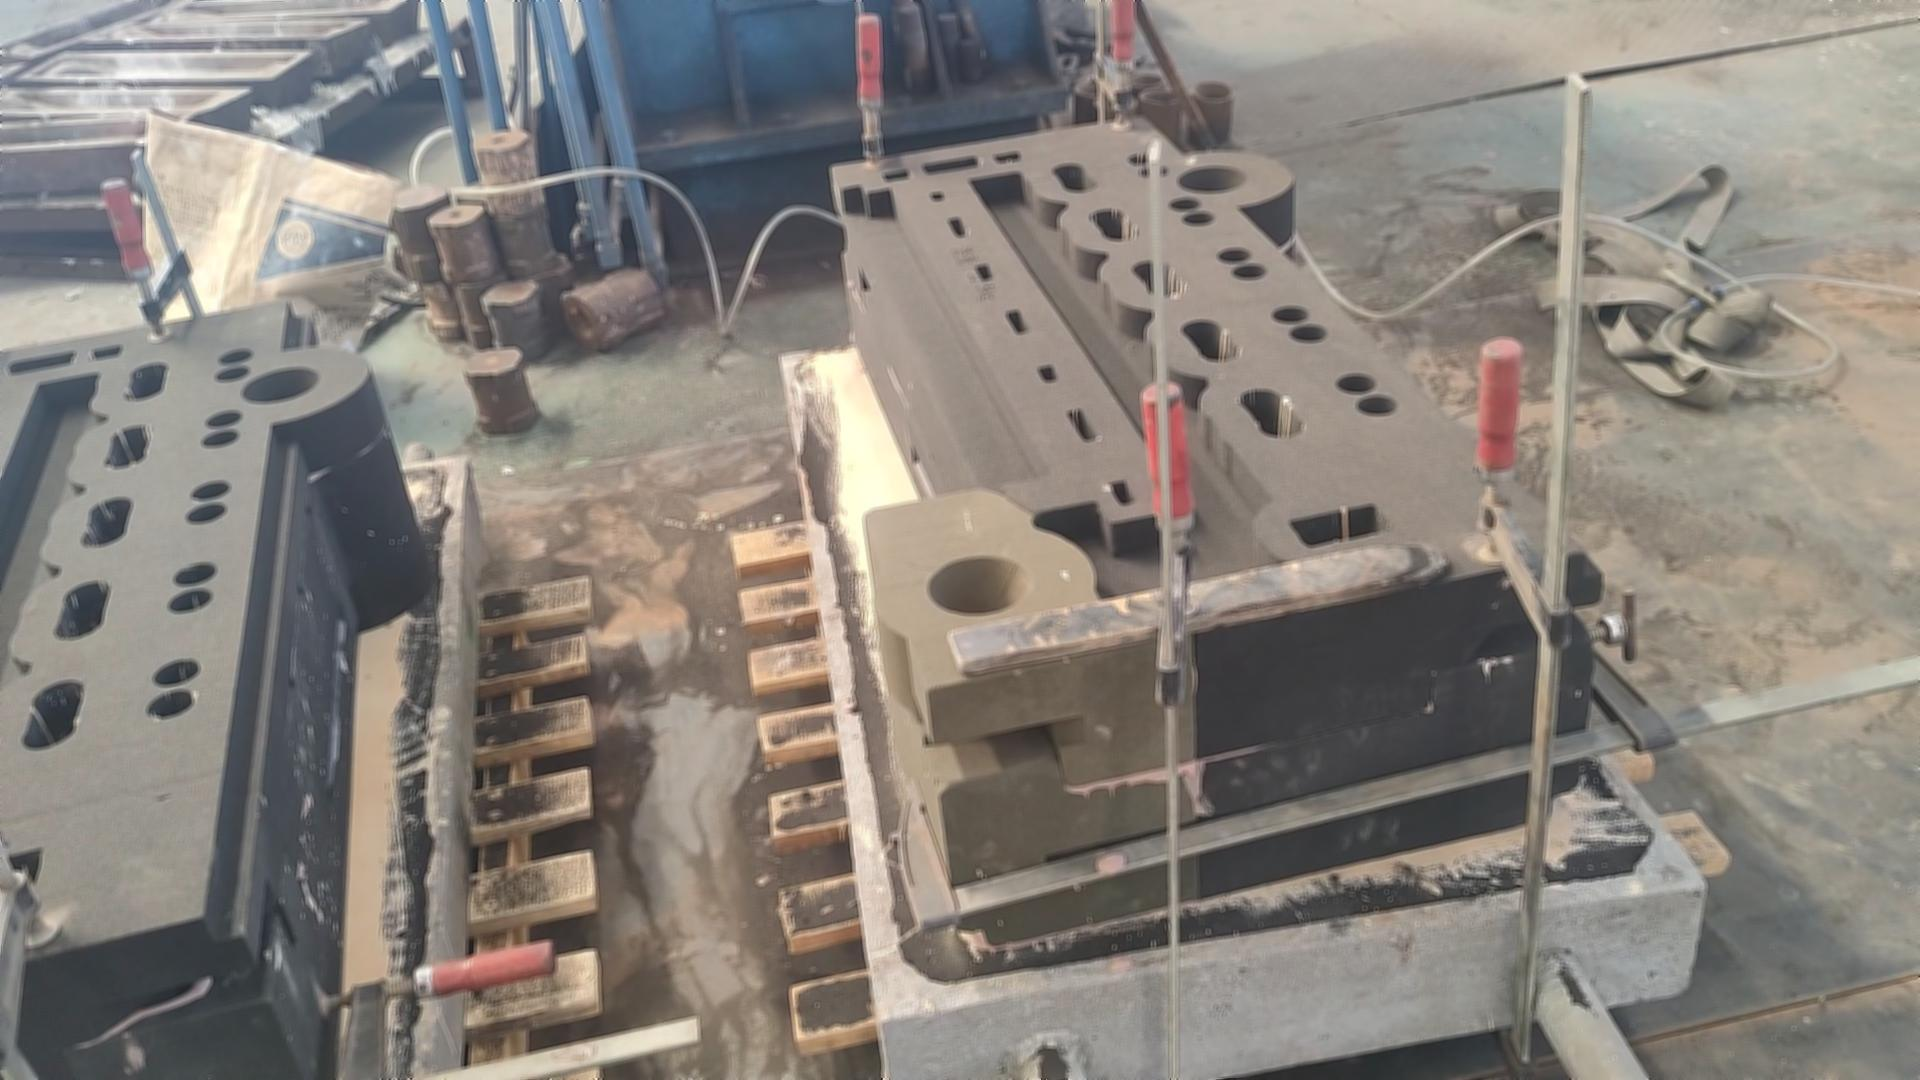pouring hole: (927, 555, 1033, 615), (243, 367, 320, 404), (1178, 167, 1247, 193), (1189, 80, 1232, 100), (1143, 90, 1180, 104), (1106, 96, 1137, 109), (1075, 82, 1101, 96), (1131, 74, 1160, 84), (1110, 80, 1134, 92)
